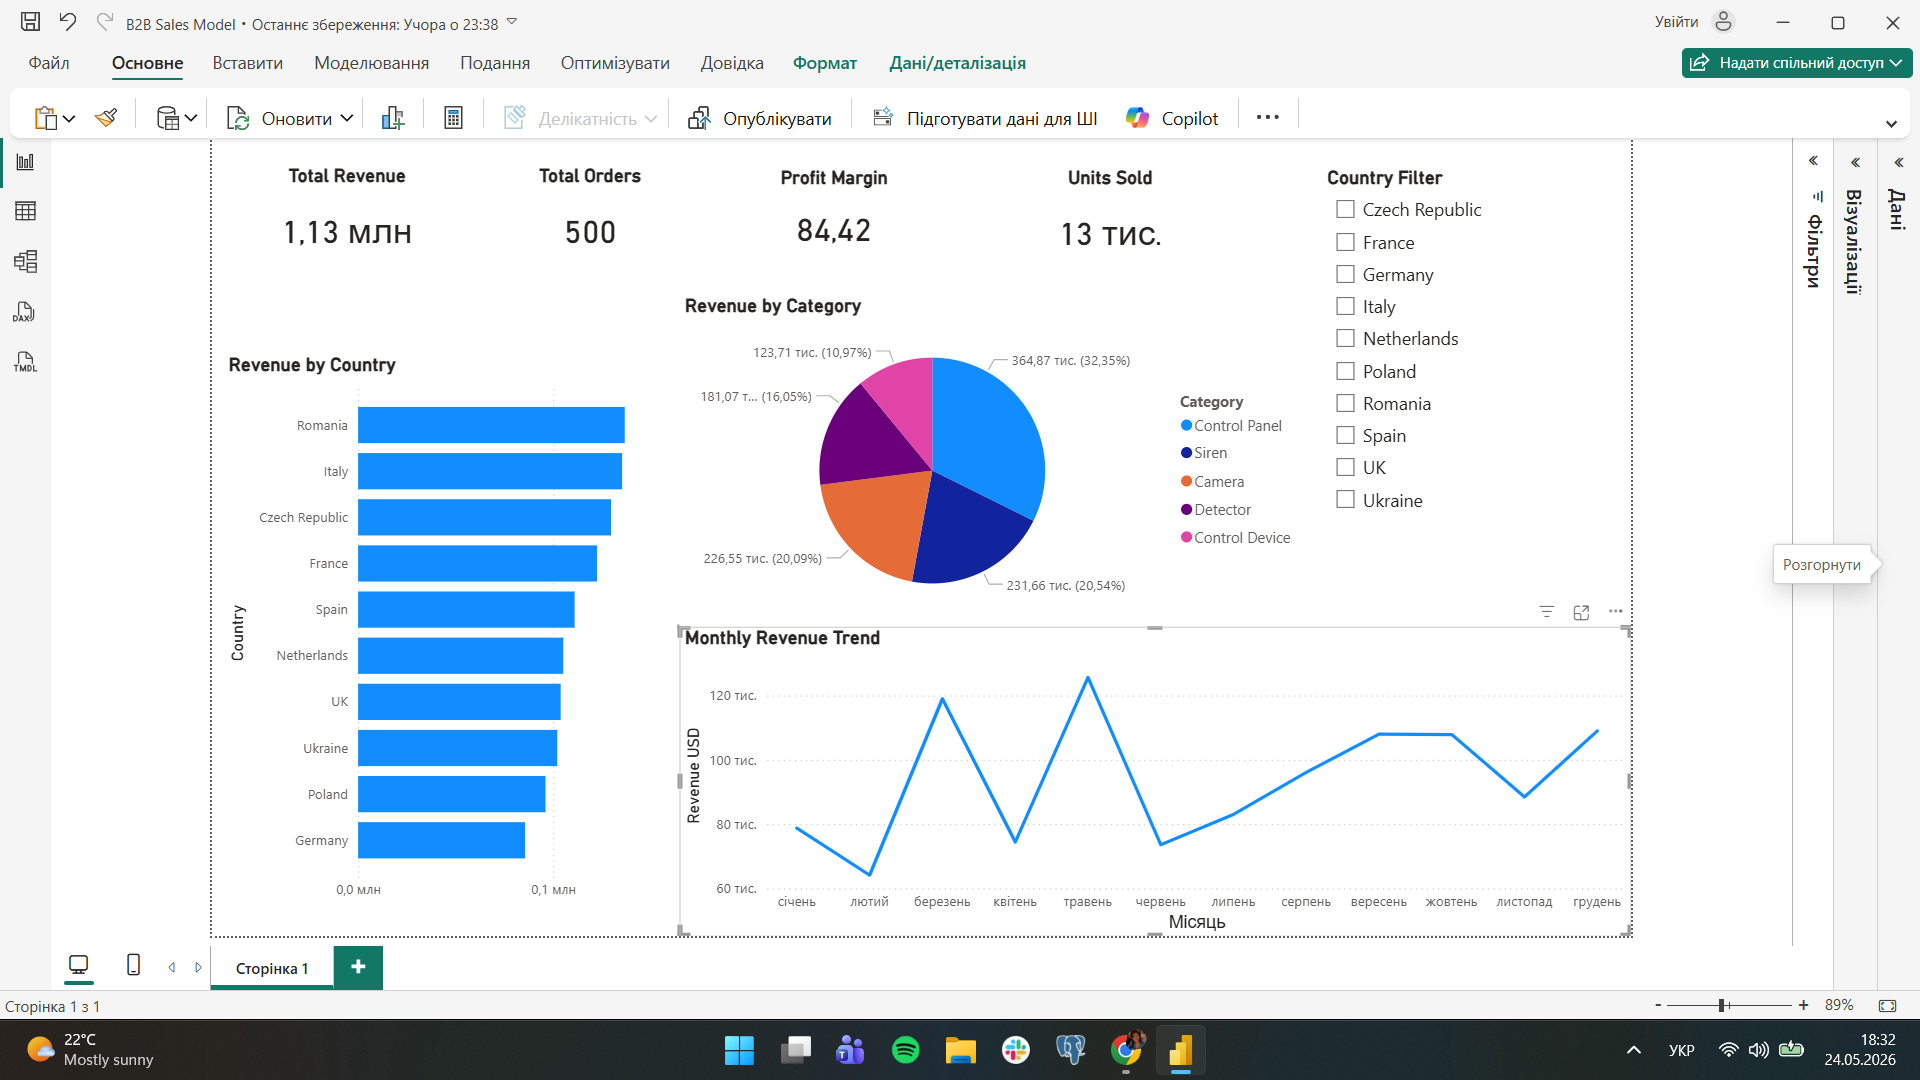

The dashboard page shown, as its layout file describes it:
{"tool":"powerbi","page":{"name":"Сторінка 1","canvas":[1280,720],"ordinal":0},"visuals":[{"type":"card","title":" Total Orders","fields":{"Values":["CountNonNull(Fact_Sales.Order_ID)"]},"box":[233.3,23.3,215.4,98.8],"z":0},{"type":"card","title":"Units Sold","fields":{"Values":["Sum(Fact_Sales.Quantity)"]},"box":[691.6,26.1,236,98.8],"z":1000},{"type":"clusteredBarChart","title":"Revenue by Country","fields":{"Category":["Dim_Distributor.Country"],"Y":["Sum(Fact_Sales.Revenue_USD)"]},"box":[9.6,193.5,411.7,516],"z":2000},{"type":"lineChart","title":"Monthly Revenue Trend","fields":{"Category":["Fact_Sales.Date.Варіація.Ієрархія дат.Місяць"],"Y":["Sum(Fact_Sales.Revenue_USD)"]},"box":[421.3,440.5,859,279.9],"z":3000},{"type":"pieChart","title":"Revenue by Category","fields":{"Category":["Dim_Product.Category"],"Y":["Sum(Fact_Sales.Revenue_USD)"]},"box":[421.3,141.3,565.4,299.1],"z":4000},{"type":"slicer","title":"Country Filter","fields":{"Values":["Dim_Distributor.Country"]},"box":[1000.3,26.1,279.9,333.4],"z":5000},{"type":"card","title":"Profit Margin","fields":{"Values":["Fact_Sales.Profit Margin"]},"box":[448.7,26.1,225,91.9],"z":6000},{"type":"card","title":"Total Revenue","fields":{"Values":["Fact_Sales.Total Revenue"]},"box":[9.6,23.3,223.7,98.8],"z":7000}]}

Visuals, with their boxes on the page's 1280x720 design canvas (x1, y1, x2, y2). These are canvas units, not pixel positions in the 1920x1080 screenshot, which may show the page scaled, cropped or inside an application window:
" Total Orders" card: pyautogui.locateOnScreen(233, 23, 449, 122)
"Units Sold" card: pyautogui.locateOnScreen(692, 26, 928, 125)
"Revenue by Country" clusteredBarChart: pyautogui.locateOnScreen(10, 194, 421, 710)
"Monthly Revenue Trend" lineChart: pyautogui.locateOnScreen(421, 440, 1280, 720)
"Revenue by Category" pieChart: pyautogui.locateOnScreen(421, 141, 987, 440)
"Country Filter" slicer: pyautogui.locateOnScreen(1000, 26, 1280, 360)
"Profit Margin" card: pyautogui.locateOnScreen(449, 26, 674, 118)
"Total Revenue" card: pyautogui.locateOnScreen(10, 23, 233, 122)
